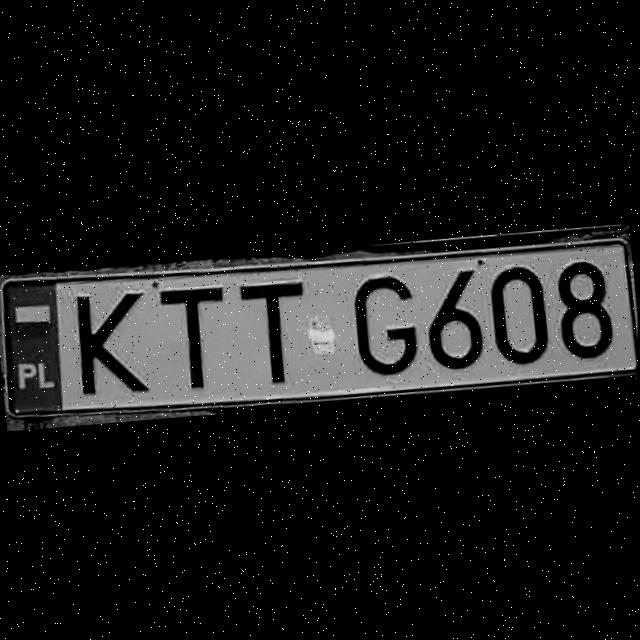license-plates: (3, 237, 638, 414)
